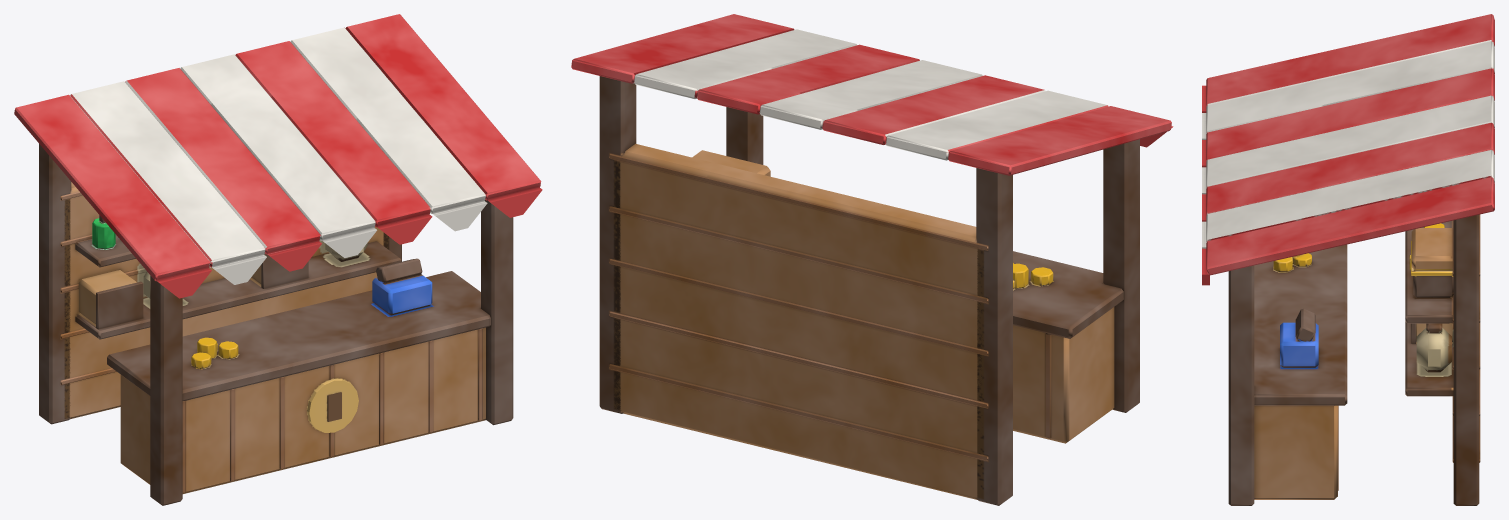
Rendered from Shop_Rig.fbx.
3 views of the same model, side by side, from view 1: azimuth 30°, elevation 25°; view 2: azimuth 150°, elevation 25°; view 3: azimuth 270°, elevation 25° (orthographic). The views are drawn at different scales.
Parts seen in each view (by area): view 1: Stall, Awning, Goods; view 2: Stall, Awning, Goods; view 3: Awning, Stall, Goods.
Boxes of the visible parts, x1=… form: Stall: x1=39, y1=144, x2=513, y2=505; Awning: x1=14, y1=14, x2=542, y2=298; Goods: x1=78, y1=215, x2=432, y2=368; Stall: x1=599, y1=76, x2=1139, y2=505; Awning: x1=571, y1=14, x2=1173, y2=175; Goods: x1=692, y1=150, x2=1053, y2=288; Awning: x1=1202, y1=14, x2=1494, y2=285; Stall: x1=1228, y1=214, x2=1480, y2=505; Goods: x1=1273, y1=223, x2=1453, y2=372.
Bounding box in the file's own units: 7.85 × 6 × 5.11.
1 material, 1 textured.
